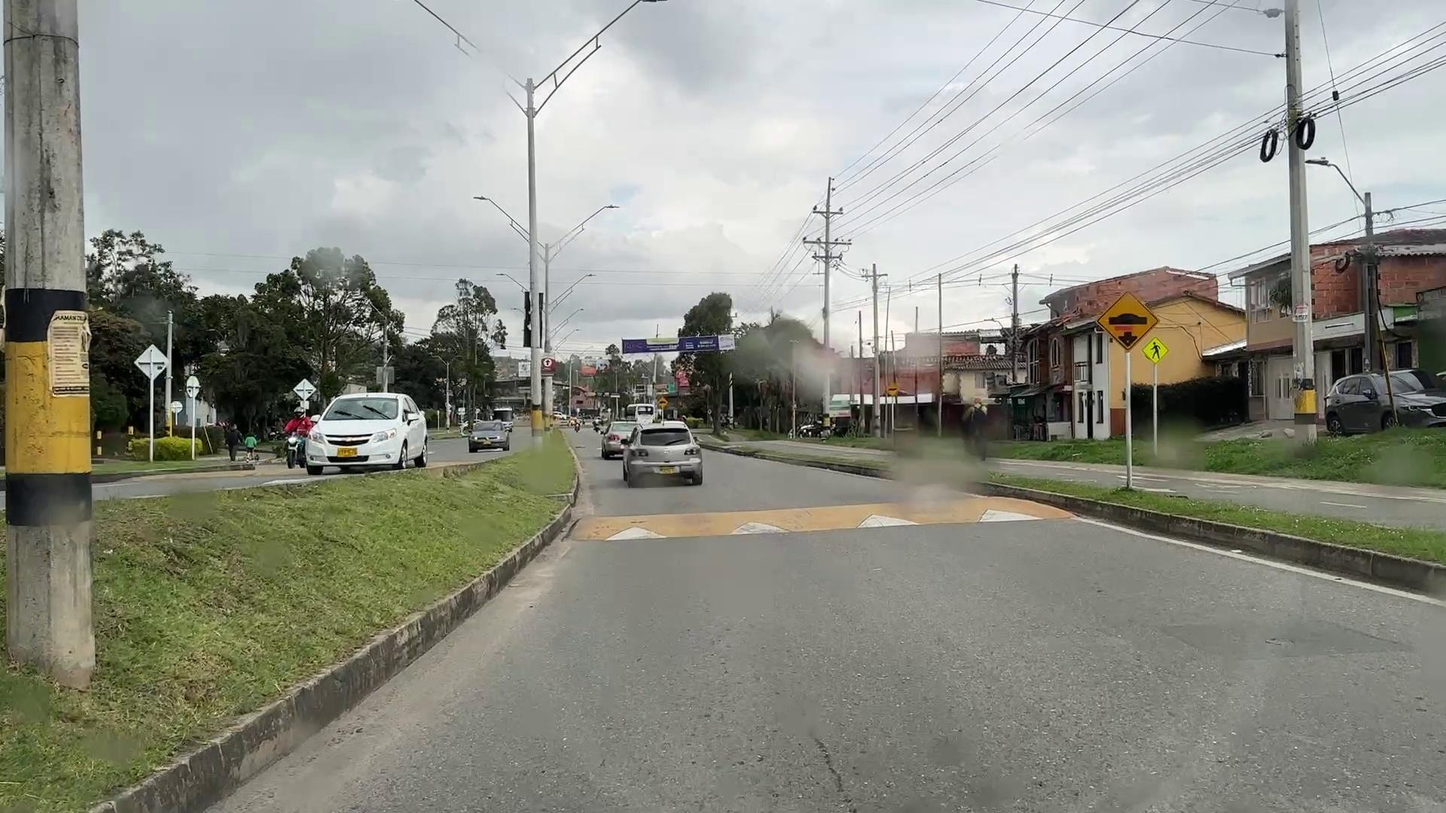bache: (1266, 639, 1295, 649)
